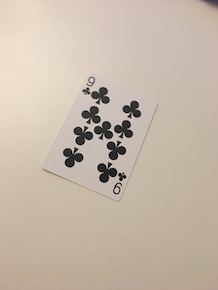NineOfClubs: (38, 67, 162, 203)
